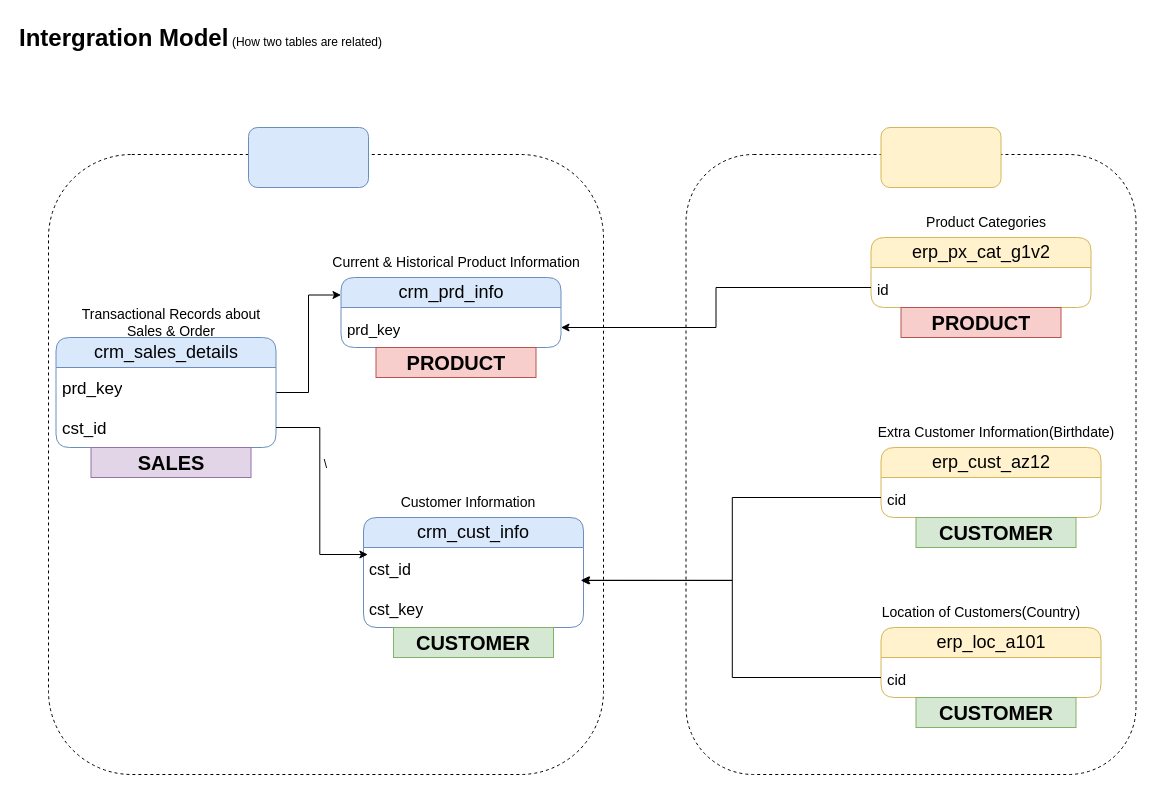
The diagram is 1153 pixels wide and 792 high, and some of its shapes have lost their labels. Here are the shapes that lost their labels. From the top down, the centre of each, then its label:
At pixel 308 157: "CRM".
At pixel 940 157: "ERP".
